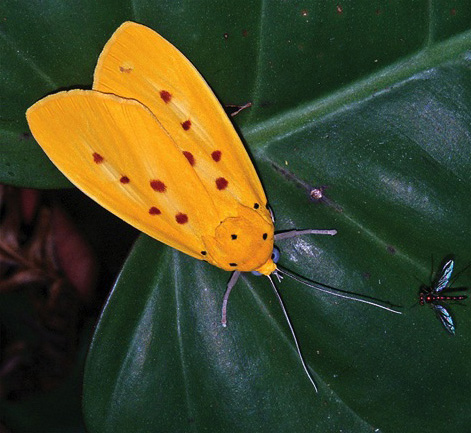Agape chloropyga: (21, 19, 405, 395)
moth: (19, 17, 403, 393)
